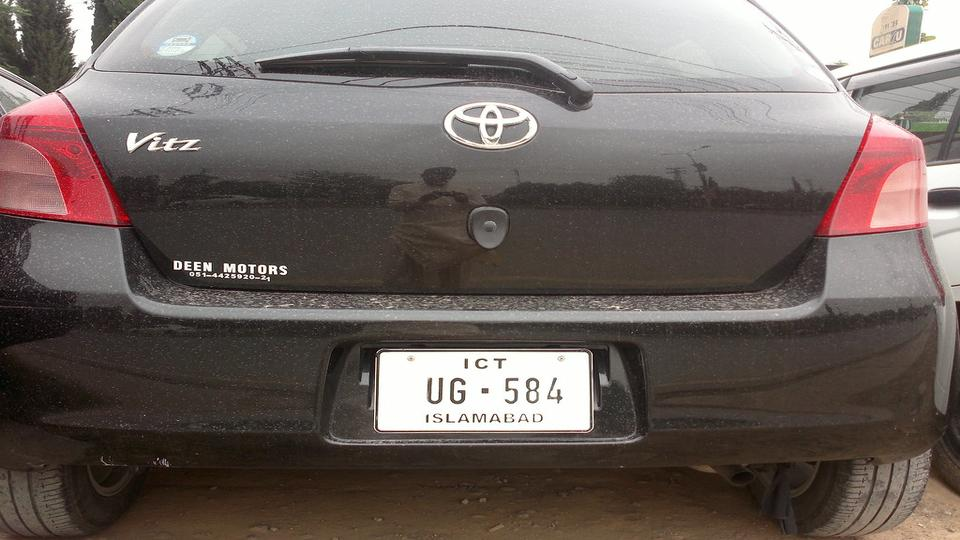NumberPlate: (380, 345, 598, 434)
